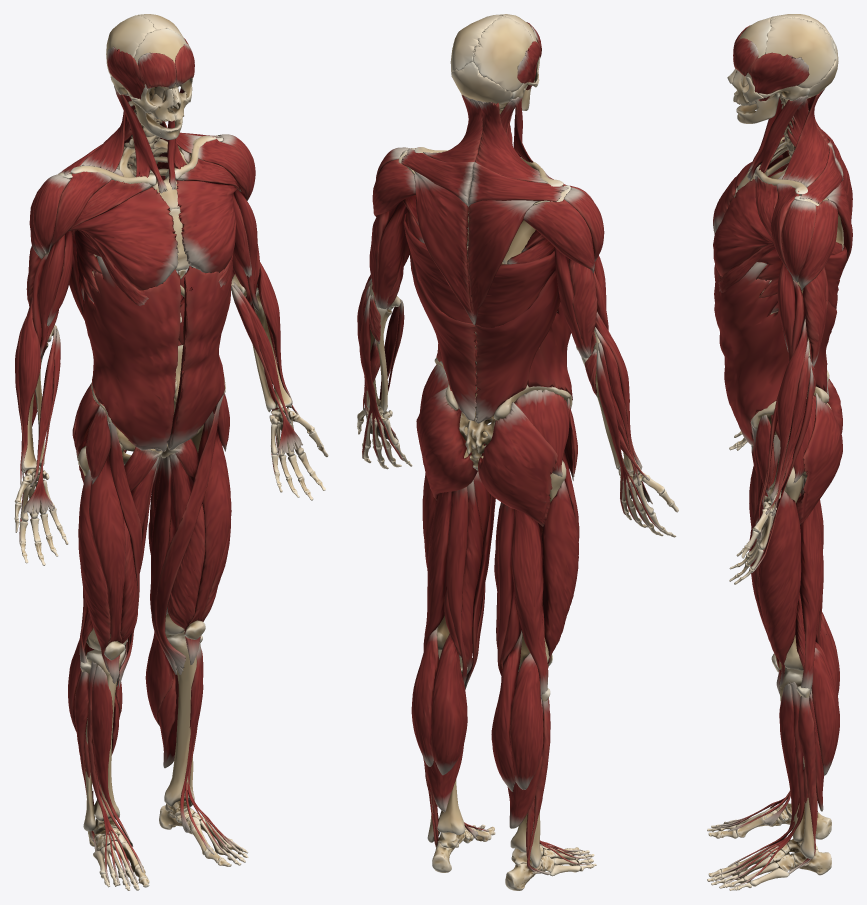
Rendered from muscles.a2bfb31d.glb.
3 renders of one model, left to right at view 1: azimuth 30°, elevation 25°; view 2: azimuth 150°, elevation 25°; view 3: azimuth 270°, elevation 25°, orthographic. The views are drawn at different scales.
Visible parts, largest first — view 1: Skeleton, Abdominal wall, Quadriceps femoris, Pectoralis major, Medial and anterior thigh, Forearm muscles, Anterior and lateral leg, Arm muscles, Deltoid, Muscles of the head and neck, Calf muscles, Gluteal muscles (+4 smaller); view 2: Skeleton, Trapezius, Latissimus dorsi and teres, Hamstrings, Calf muscles, Gluteal muscles, Forearm muscles, Arm muscles, Deltoid, Quadriceps femoris, Abdominal wall, Anterior and lateral leg (+2 smaller); view 3: Skeleton, Abdominal wall, Quadriceps femoris, Anterior and lateral leg, Pectoralis major, Gluteal muscles, Deltoid, Muscles of the head and neck, Forearm muscles, Trapezius, Hamstrings, Calf muscles (+4 smaller).
Boxes of the visible parts, left/top/right/bottom form: Skeleton: left=14, top=14, right=328, bottom=890; Abdominal wall: left=82, top=255, right=232, bottom=451; Quadriceps femoris: left=78, top=411, right=231, bottom=683; Pectoralis major: left=68, top=158, right=241, bottom=305; Medial and anterior thigh: left=107, top=395, right=223, bottom=689; Forearm muscles: left=15, top=262, right=302, bottom=546; Anterior and lateral leg: left=74, top=637, right=243, bottom=885; Arm muscles: left=26, top=189, right=259, bottom=359; Deltoid: left=29, top=134, right=255, bottom=259; Muscles of the head and neck: left=107, top=38, right=194, bottom=193; Calf muscles: left=68, top=632, right=178, bottom=777; Gluteal muscles: left=72, top=383, right=229, bottom=484; Skeleton: left=357, top=14, right=678, bottom=890; Trapezius: left=401, top=95, right=568, bottom=325; Latissimus dorsi and teres: left=403, top=195, right=560, bottom=423; Hamstrings: left=423, top=480, right=548, bottom=695; Calf muscles: left=411, top=623, right=543, bottom=828; Gluteal muscles: left=416, top=364, right=577, bottom=526; Forearm muscles: left=357, top=275, right=664, bottom=532; Arm muscles: left=369, top=201, right=608, bottom=396; Deltoid: left=372, top=147, right=604, bottom=273; Quadriceps femoris: left=422, top=451, right=579, bottom=667; Abdominal wall: left=436, top=217, right=572, bottom=400; Anterior and lateral leg: left=423, top=682, right=591, bottom=875; Skeleton: left=707, top=14, right=843, bottom=890; Abdominal wall: left=714, top=262, right=788, bottom=445; Quadriceps femoris: left=749, top=434, right=801, bottom=694; Anterior and lateral leg: left=713, top=681, right=817, bottom=886; Pectoralis major: left=713, top=150, right=784, bottom=292; Gluteal muscles: left=755, top=378, right=842, bottom=524; Deltoid: left=771, top=130, right=838, bottom=290; Muscles of the head and neck: left=733, top=25, right=809, bottom=180; Forearm muscles: left=748, top=316, right=813, bottom=573; Trapezius: left=782, top=88, right=852, bottom=278; Hamstrings: left=795, top=477, right=823, bottom=690; Calf muscles: left=809, top=612, right=839, bottom=811.
Bounding box in the file's own units: 1.62 × 4.11 × 0.6471.
